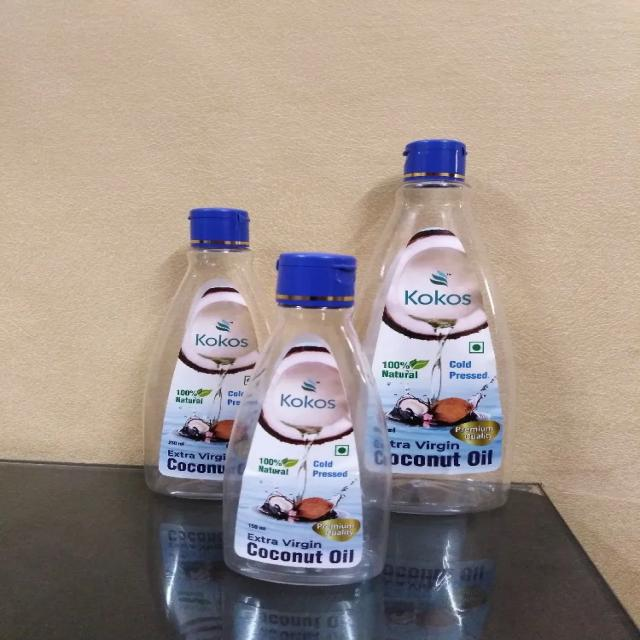plastic: (131, 197, 393, 593), (358, 128, 519, 513)
